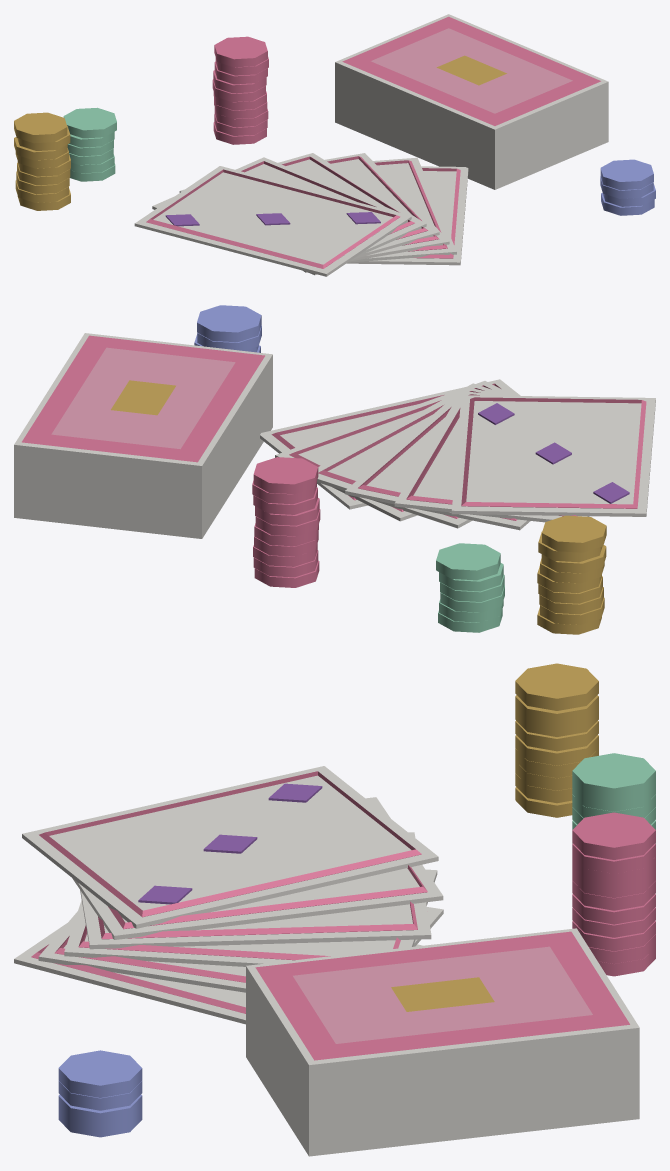
The model's file is playing_cards.glb.
3 renders of one model, top to bottom at view 1: azimuth 30°, elevation 25°; view 2: azimuth 150°, elevation 25°; view 3: azimuth 270°, elevation 25°, orthographic. The views are drawn at different scales.
Parts seen in each view (by area): view 1: playing_cards; view 2: playing_cards; view 3: playing_cards.
Part boxes in pixels (box(x1,y1,x2,y2)): playing_cards: box(14, 14, 655, 276); playing_cards: box(14, 305, 655, 634); playing_cards: box(14, 663, 655, 1156).
Size of what is drawn, in the model's own units: 0.25 by 0.04 by 0.18.
